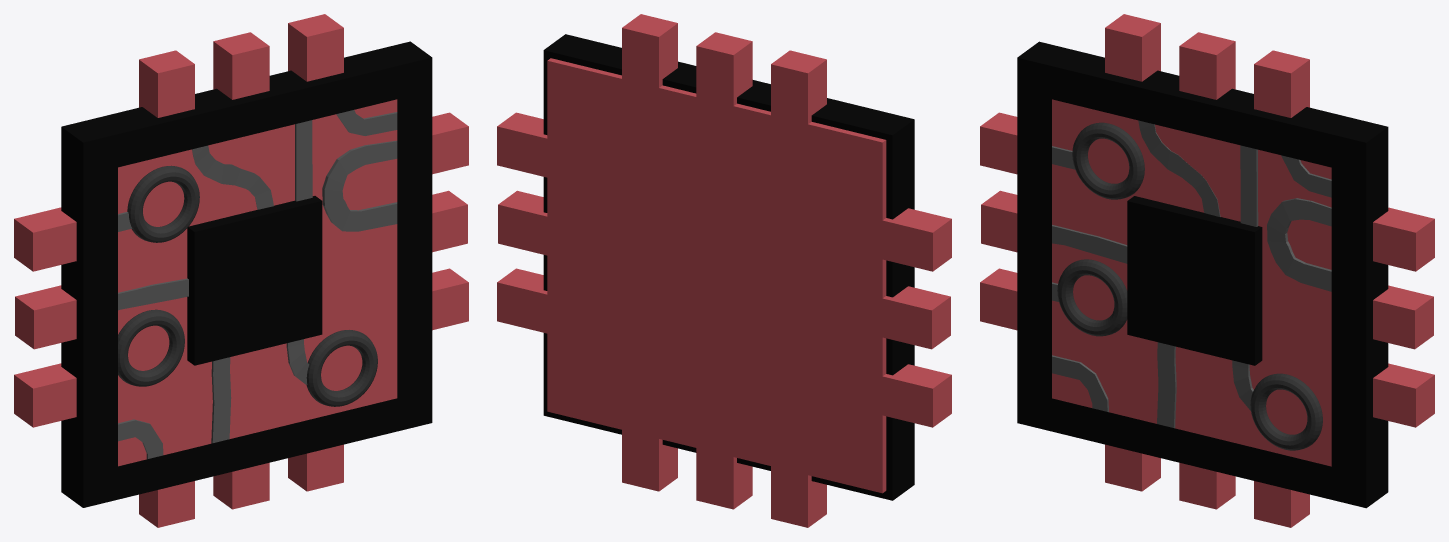
The model's file is chip6.gltf.
3 renders of one model, left to right at view 1: azimuth 30°, elevation 25°; view 2: azimuth 150°, elevation 25°; view 3: azimuth 330°, elevation 25°, orthographic.
Parts seen in each view (by area): view 1: Cube, Cube2, Cube3, Cube1, Torus; view 2: Cube, Cube2; view 3: Cube, Cube2, Cube3, Cube1, Torus.
Part boxes in pixels (x1,y1,x2,y2): Cube: (14,14,468,527); Cube2: (61,41,432,507); Cube3: (187,196,322,365); Cube1: (118,110,397,459); Torus: (118,165,377,406); Cube: (497,14,951,527); Cube2: (543,34,914,500); Cube: (980,14,1434,527); Cube2: (1017,41,1388,508); Cube3: (1127,196,1262,365); Cube1: (1052,120,1331,428); Torus: (1057,122,1322,450).
Bounding box in the file's own units: 2.6 × 2.59 × 0.2705.
